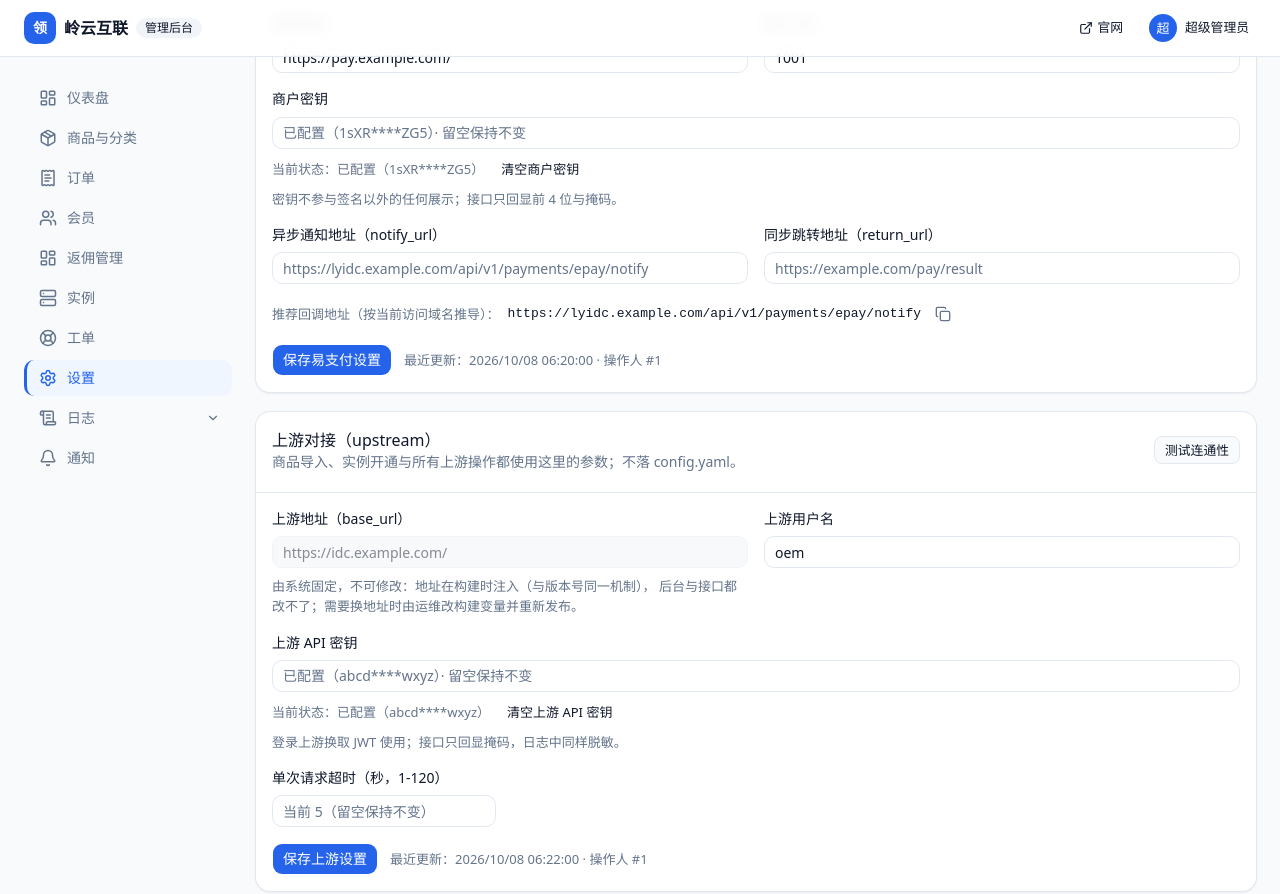
Test case: 管理后台 · 全站设置 › 上游设置：测试连通性展示探活结果；超时越界被拦截
The image size is (1280, 894).
(page scrolled)
Click the button "测试连通性" at (1197, 450), box top-left (1154, 436), bottom-right (1240, 464)
(page scrolled)
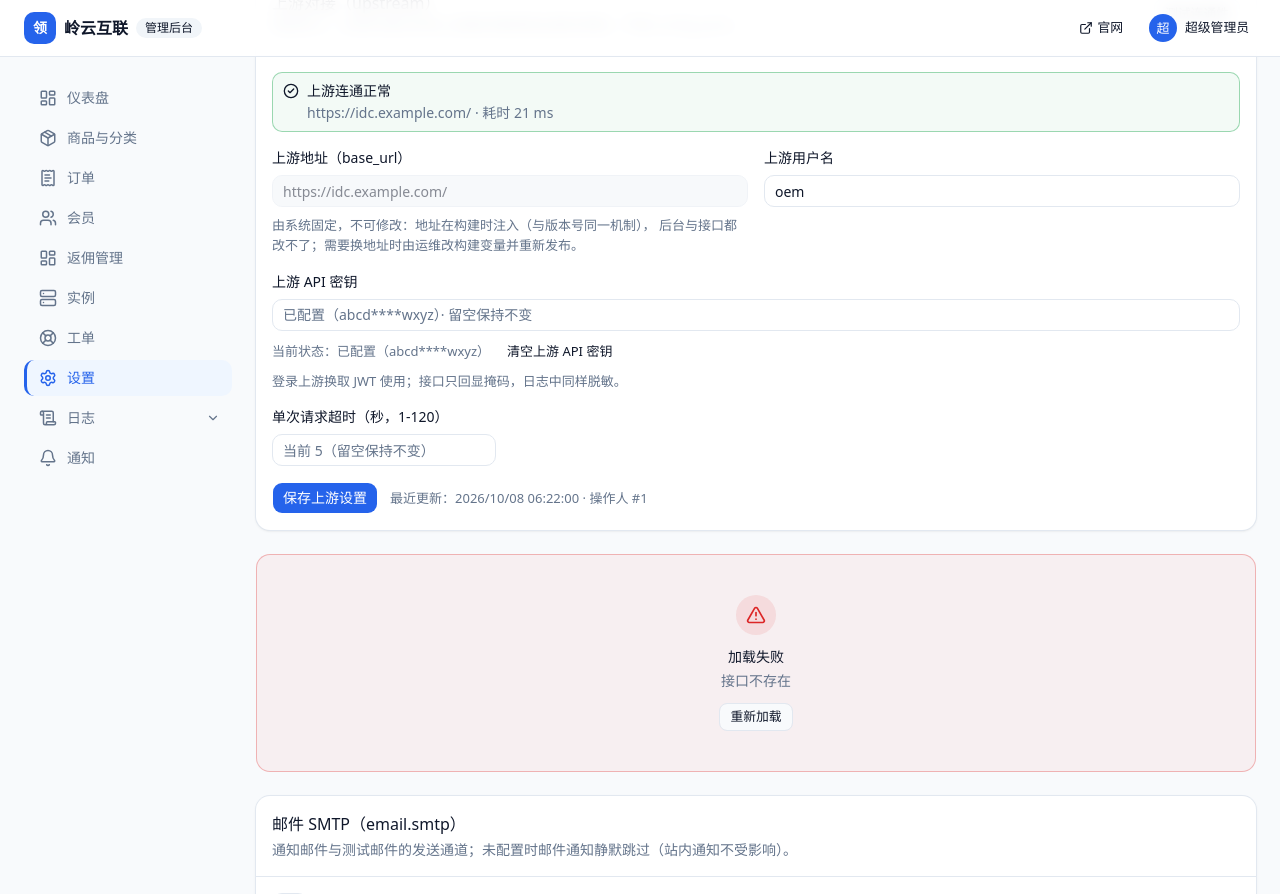
Expected: the text with test id "upstream-probe-result" reads "上游连通正常", top-left (307, 81), bottom-right (391, 100)
Expected: the text "https://idc.example.com/ · 耗时 21 ms" is shown, top-left (307, 103), bottom-right (553, 122)
Type "999" into the field labelled "单次请求超时（秒，1-120）" at (384, 450), box top-left (272, 434), bottom-right (496, 466)
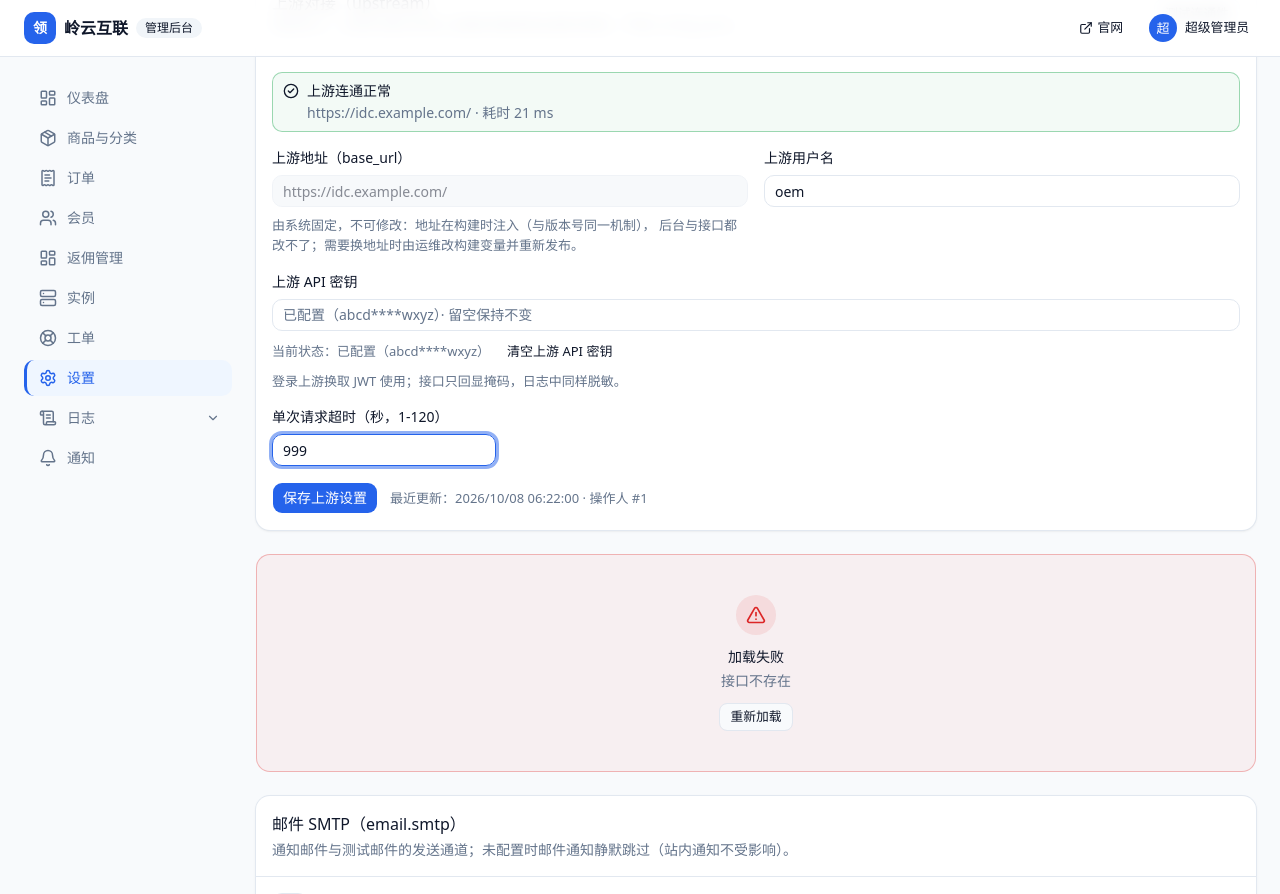
Click the button "保存上游设置" at (325, 498), box top-left (272, 482), bottom-right (378, 514)
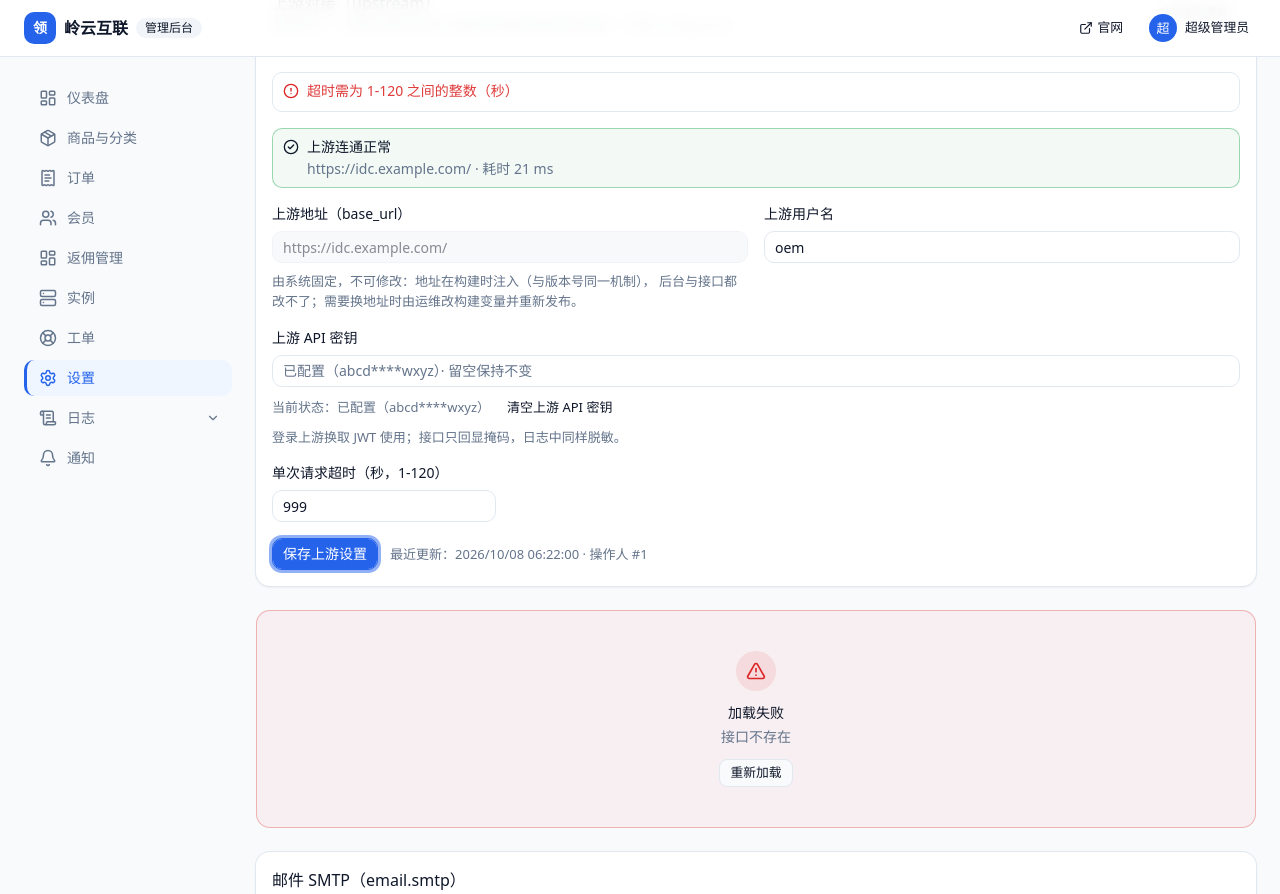
Expected: the text "超时需为 1-120 之间的整数（秒）" is shown, top-left (307, 81), bottom-right (519, 100)
